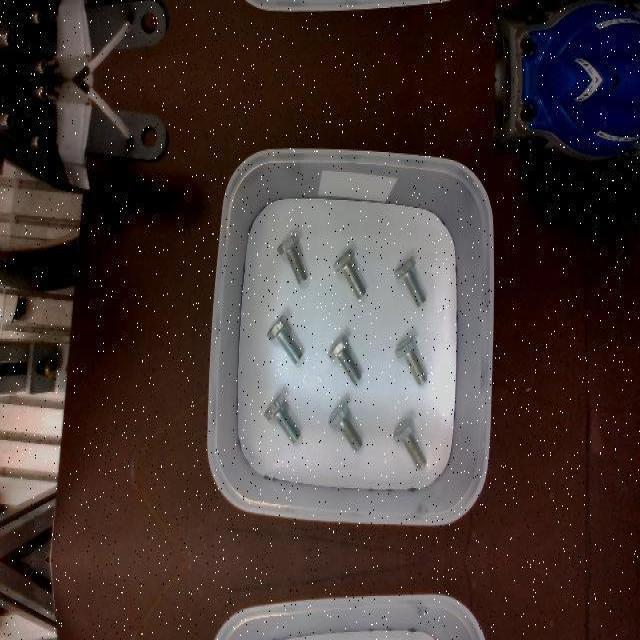screw: (328, 401, 363, 451), (264, 394, 300, 442), (268, 314, 302, 364), (333, 248, 366, 298), (394, 256, 426, 306), (395, 335, 427, 385), (394, 417, 426, 467), (328, 335, 361, 383), (277, 233, 307, 283)
